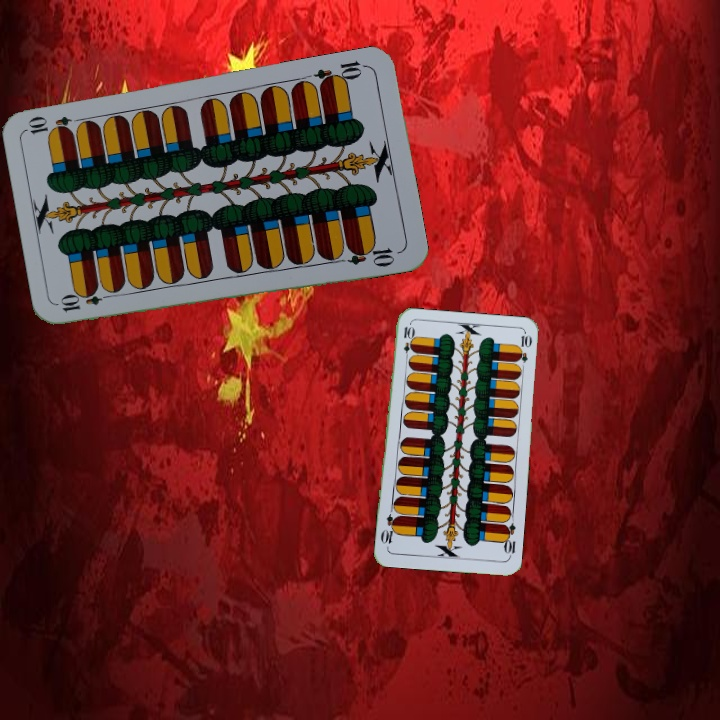E10: (311, 57, 370, 90), (56, 288, 116, 315), (499, 520, 518, 560), (399, 322, 414, 363)
